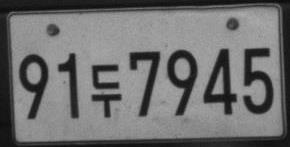1: (54, 52, 86, 119)
4: (203, 48, 237, 115)
5: (242, 47, 274, 115)
7: (128, 50, 161, 117)
9: (166, 48, 198, 115), (18, 53, 49, 119)
두: (91, 63, 121, 118)
